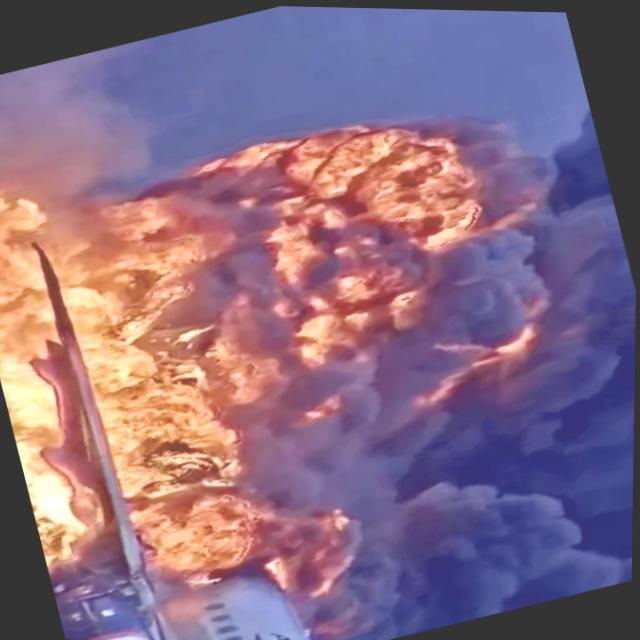fire: (70, 292, 252, 570), (0, 200, 104, 573)
smoke: (415, 197, 638, 535), (318, 441, 635, 640)
